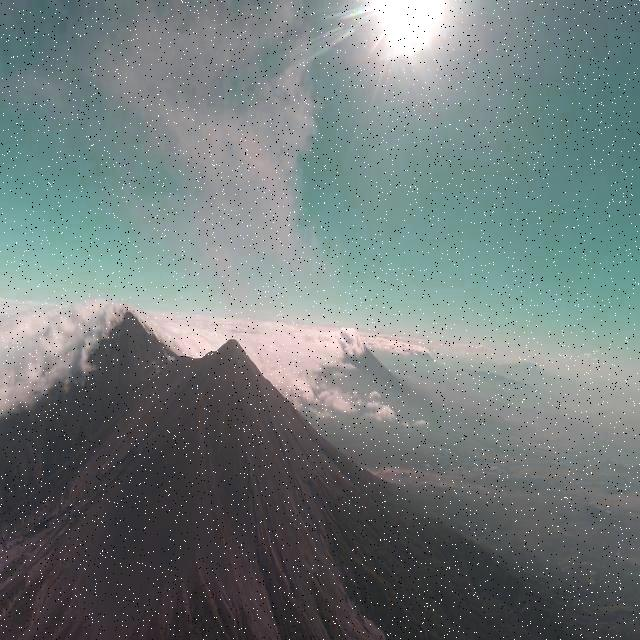Plume: (14, 4, 320, 232)
Summit: (200, 334, 258, 372)
